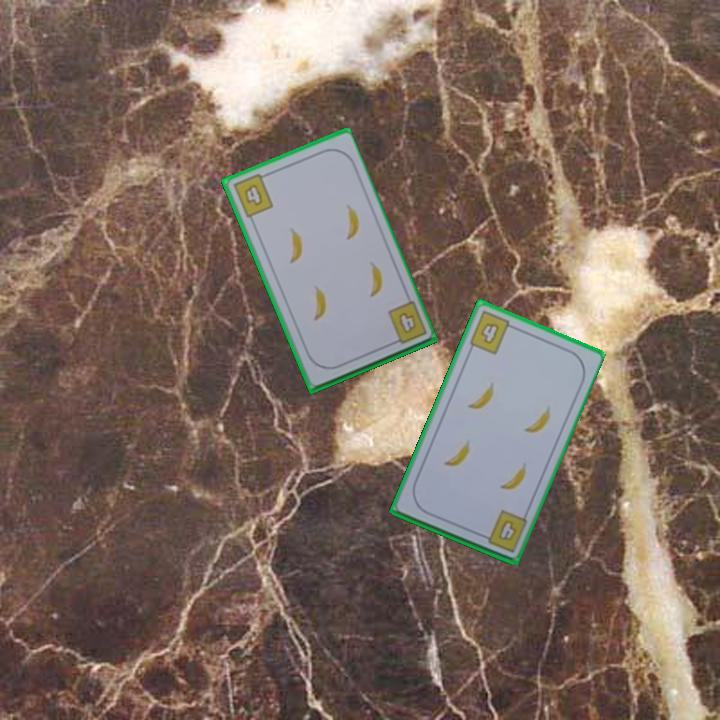4b: (466, 307, 519, 357), (477, 506, 530, 555), (229, 169, 276, 221), (384, 298, 429, 348)
